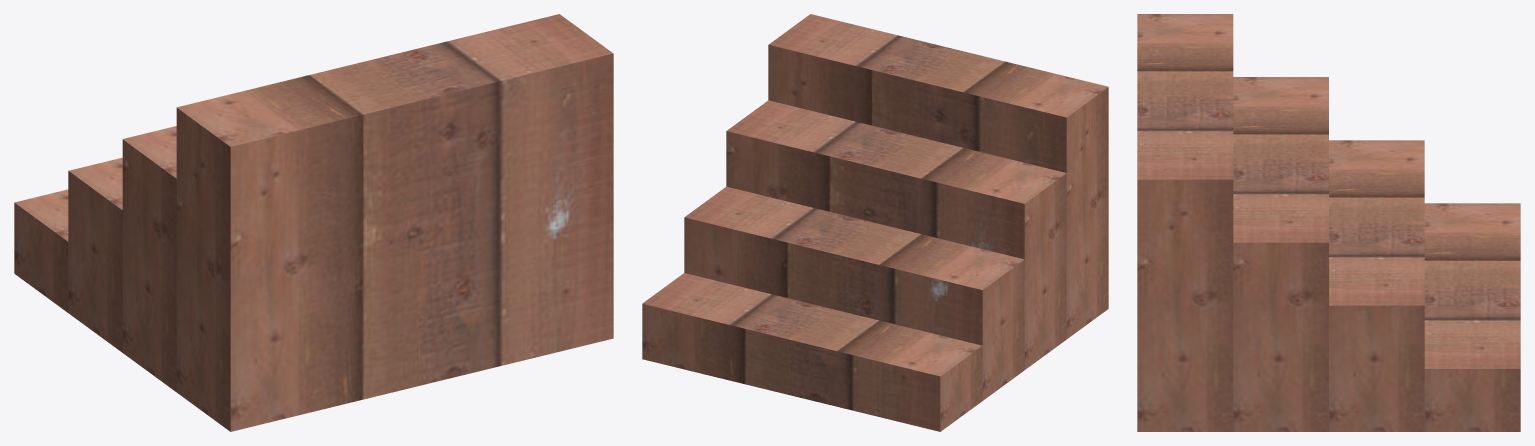
Rendered from stair_wood.glb.
3 views of the same model, side by side, from view 1: azimuth 30°, elevation 25°; view 2: azimuth 150°, elevation 25°; view 3: azimuth 270°, elevation 25° (orthographic). The views are drawn at different scales.
Parts seen in each view (by area): view 1: stair; view 2: stair; view 3: stair.
Part boxes in pixels (x1,y1,x2,y2): stair: (14,14,613,431); stair: (642,14,1108,431); stair: (1137,14,1520,431).
Size of the model in its own units: 0.9 by 0.64 by 0.88.
Materials: 1 (1 with a texture image).
